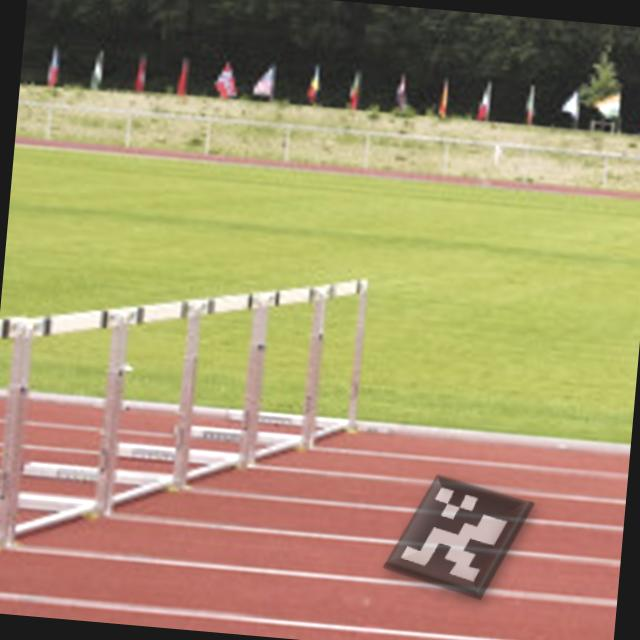marker: (372, 459, 547, 612)
